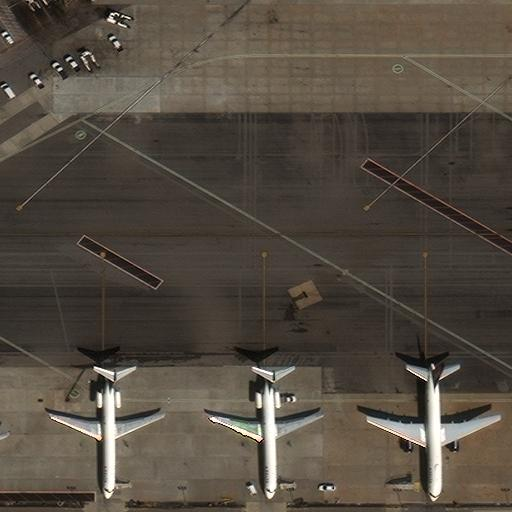Large Civil Transport: (366, 362, 500, 501)
Medium Civil Transport: (209, 370, 323, 500), (50, 369, 162, 500)
